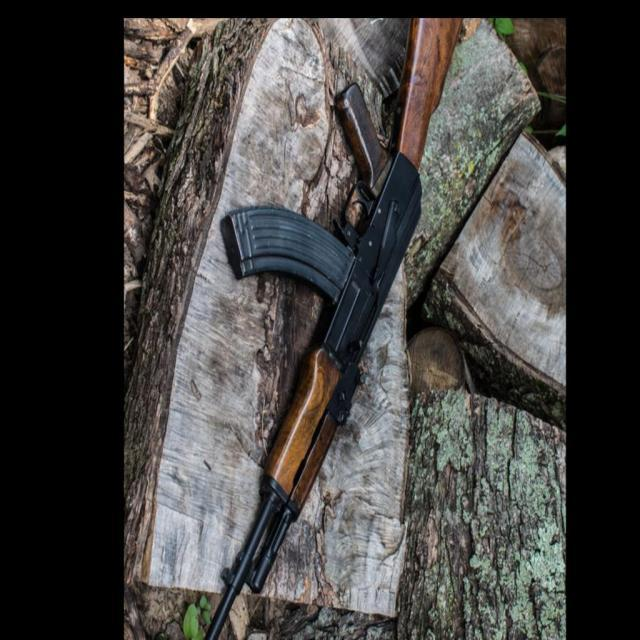weapon: (204, 20, 462, 640)
